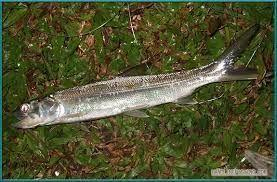Tenpounder: (13, 23, 269, 139)
